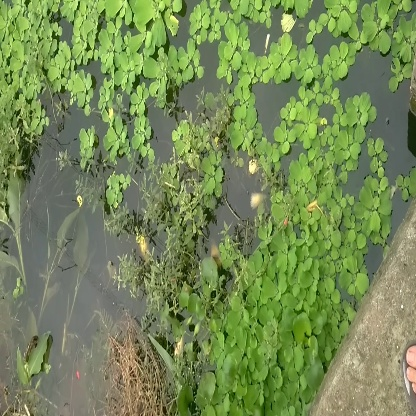grass: (203, 244, 325, 415)
